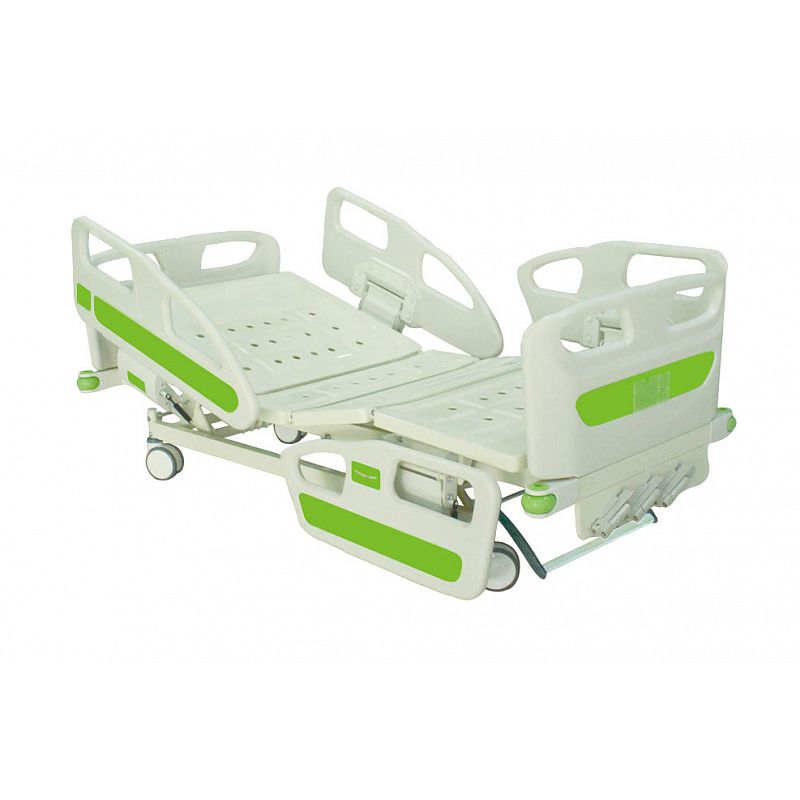trolley_bed: (63, 181, 727, 604)
